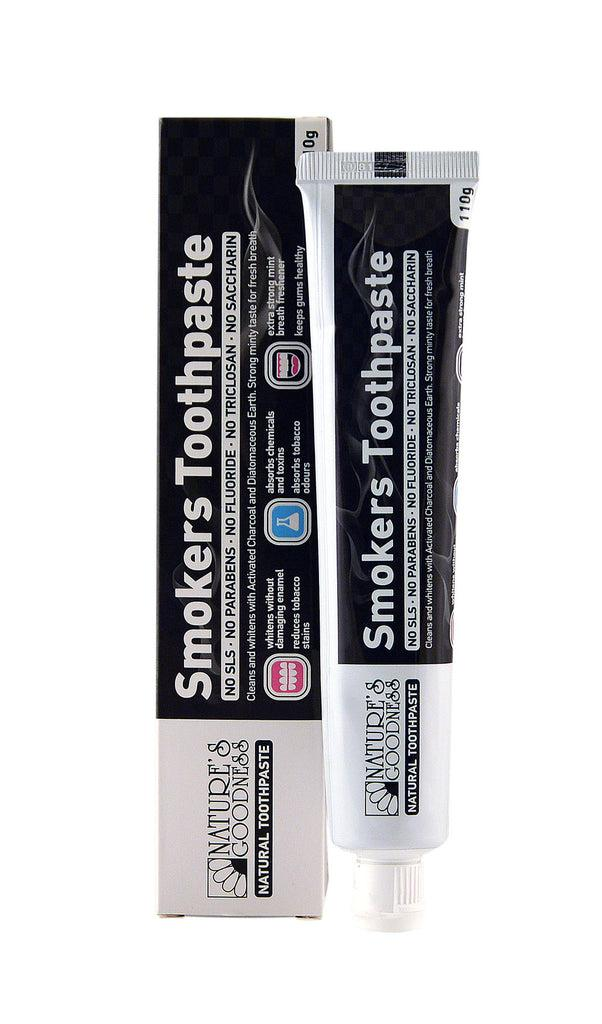toothpaste: (301, 126, 494, 967)
